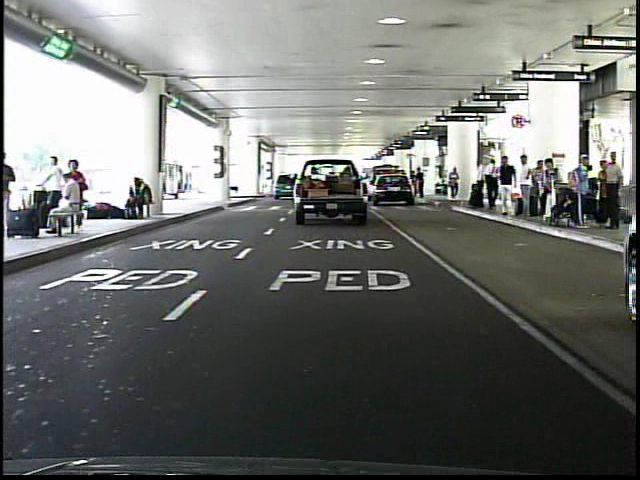person: (496, 153, 519, 219), (515, 153, 536, 220), (467, 154, 489, 213), (446, 166, 462, 203), (416, 166, 427, 202), (409, 167, 418, 200)
